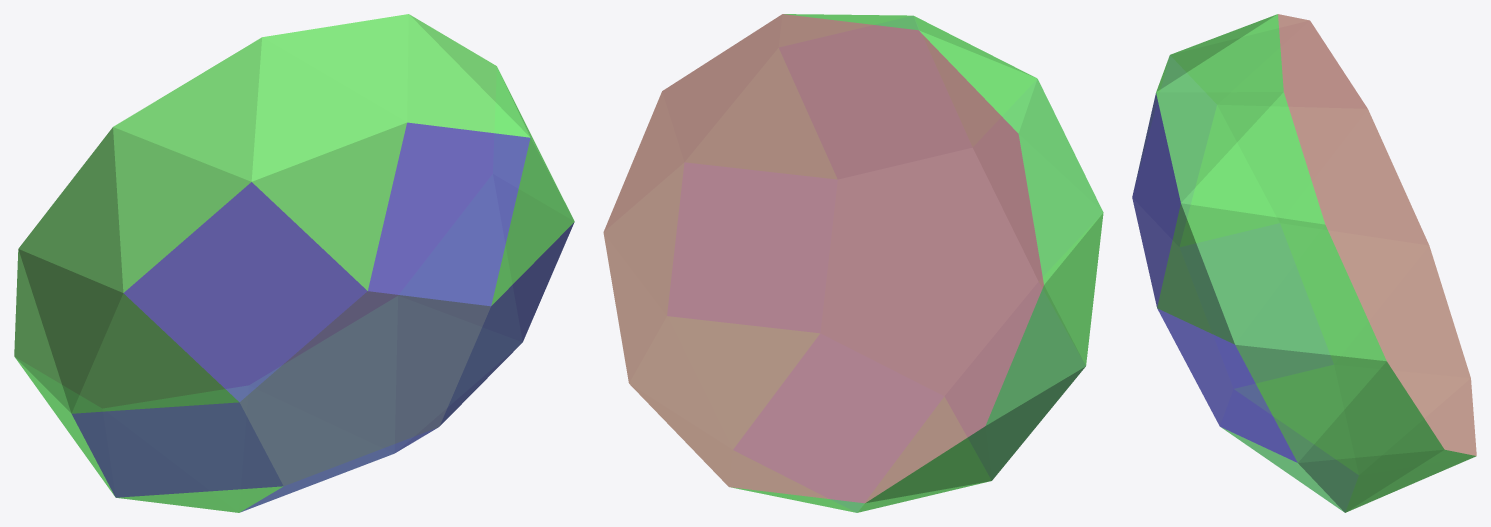
The model's file is j24_gyroelongated_pentagonal_cupola.obj.
3 renders of one model, left to right at view 1: azimuth 30°, elevation 25°; view 2: azimuth 150°, elevation 25°; view 3: azimuth 270°, elevation 25°, orthographic. The views are drawn at different scales.
Size of the model in its own units: 2.02 by 2.05 by 1.42.
